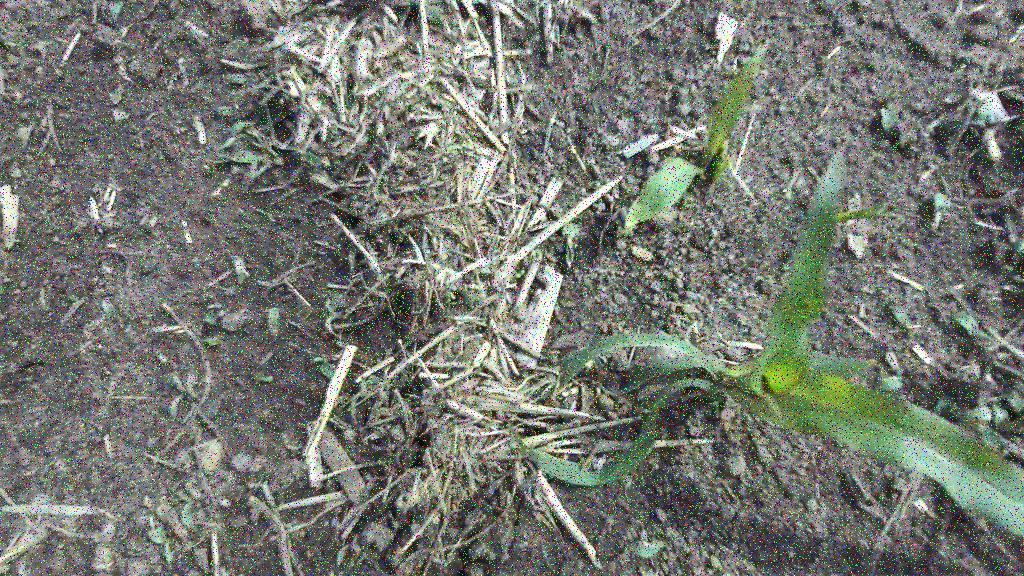BroWeed: (959, 414, 1013, 458), (947, 303, 996, 351), (145, 522, 185, 569), (215, 112, 255, 156), (84, 516, 118, 562), (326, 533, 368, 569), (554, 219, 581, 269), (345, 377, 372, 426), (173, 486, 199, 534), (286, 140, 325, 171), (91, 283, 122, 321), (617, 539, 668, 560), (992, 402, 1024, 434), (968, 95, 996, 131), (928, 389, 960, 420), (979, 123, 1002, 165), (954, 403, 993, 427), (929, 191, 951, 231), (309, 352, 339, 381), (181, 474, 205, 509), (886, 302, 915, 330), (324, 289, 341, 336), (169, 371, 185, 420), (241, 122, 268, 150), (213, 149, 265, 163), (879, 105, 899, 141), (181, 371, 204, 402), (883, 347, 906, 378), (230, 254, 252, 286), (263, 306, 283, 339), (212, 98, 240, 121), (358, 472, 378, 504), (925, 110, 945, 137), (387, 421, 408, 445), (874, 374, 903, 391), (197, 156, 220, 176), (198, 333, 225, 350), (222, 70, 250, 86), (456, 288, 479, 306), (107, 1, 124, 23), (232, 131, 248, 153), (532, 248, 557, 262), (202, 308, 219, 327), (364, 372, 381, 391), (425, 5, 441, 25), (619, 473, 636, 491), (214, 495, 234, 510), (112, 108, 129, 124), (1011, 237, 1024, 256), (522, 251, 538, 266), (711, 394, 725, 410), (10, 160, 22, 178), (1012, 381, 1024, 399), (1011, 118, 1024, 134), (884, 86, 896, 103), (446, 143, 474, 150), (513, 266, 526, 280), (0, 155, 12, 170), (14, 22, 28, 34), (468, 132, 483, 143), (8, 34, 24, 43), (332, 504, 344, 516), (680, 199, 692, 210), (922, 190, 935, 200), (641, 521, 647, 542), (206, 302, 224, 309), (258, 375, 274, 382), (1012, 274, 1024, 283), (199, 507, 206, 521), (1, 277, 13, 285), (697, 172, 707, 181), (927, 216, 935, 227), (67, 294, 79, 301), (366, 382, 375, 391), (0, 283, 5, 296), (1001, 265, 1014, 270), (327, 568, 335, 576), (40, 477, 48, 483), (410, 0, 419, 4)
Maize: (611, 36, 806, 260)
